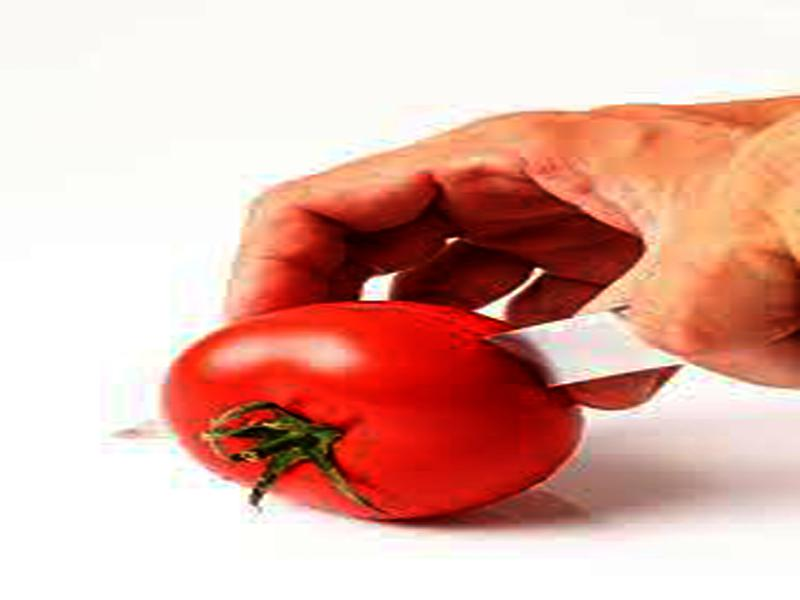Tomato: (169, 299, 580, 519)
